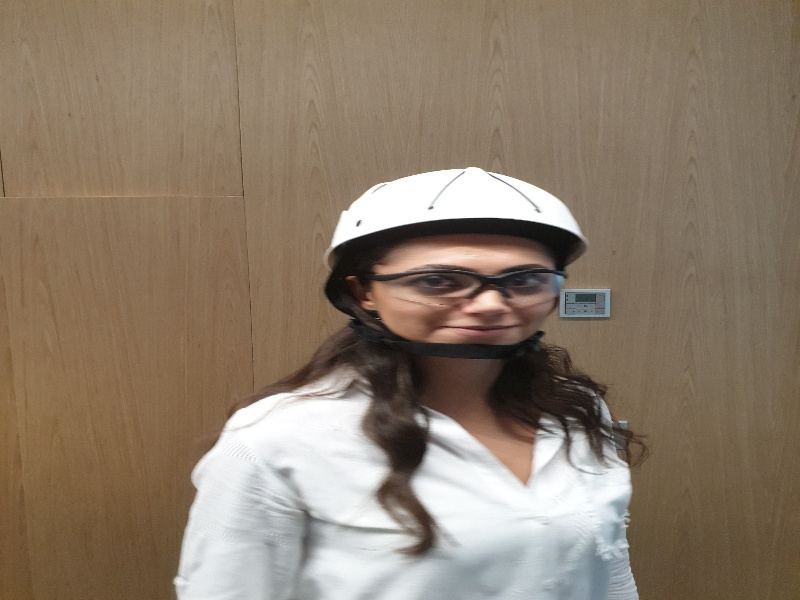Baret: (328, 167, 590, 246)
Gozluk: (345, 268, 572, 301)
